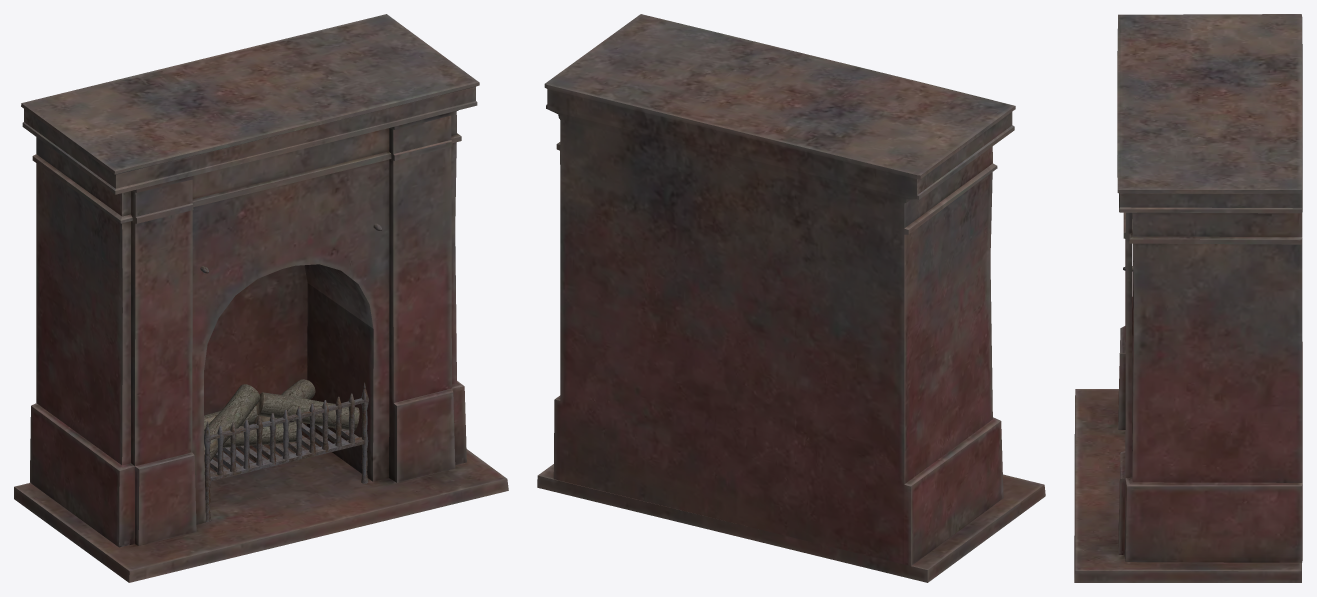
The model's file is pian_victorian_fire_place__free.glb.
3 views of the same model, side by side, from view 1: azimuth 30°, elevation 25°; view 2: azimuth 150°, elevation 25°; view 3: azimuth 270°, elevation 25° (orthographic). The views are drawn at different scales.
Parts seen in each view (by area): view 1: FirePlace_FirePlace_0; view 2: FirePlace_FirePlace_0; view 3: FirePlace_FirePlace_0.
Boxes of the visible parts, x1=… form: FirePlace_FirePlace_0: x1=14, y1=14, x2=508, y2=582; FirePlace_FirePlace_0: x1=537, y1=14, x2=1045, y2=582; FirePlace_FirePlace_0: x1=1074, y1=14, x2=1302, y2=582.
Size of the model in its own units: 1.41 by 1.4 by 0.7432.
2 materials, 2 textured.
